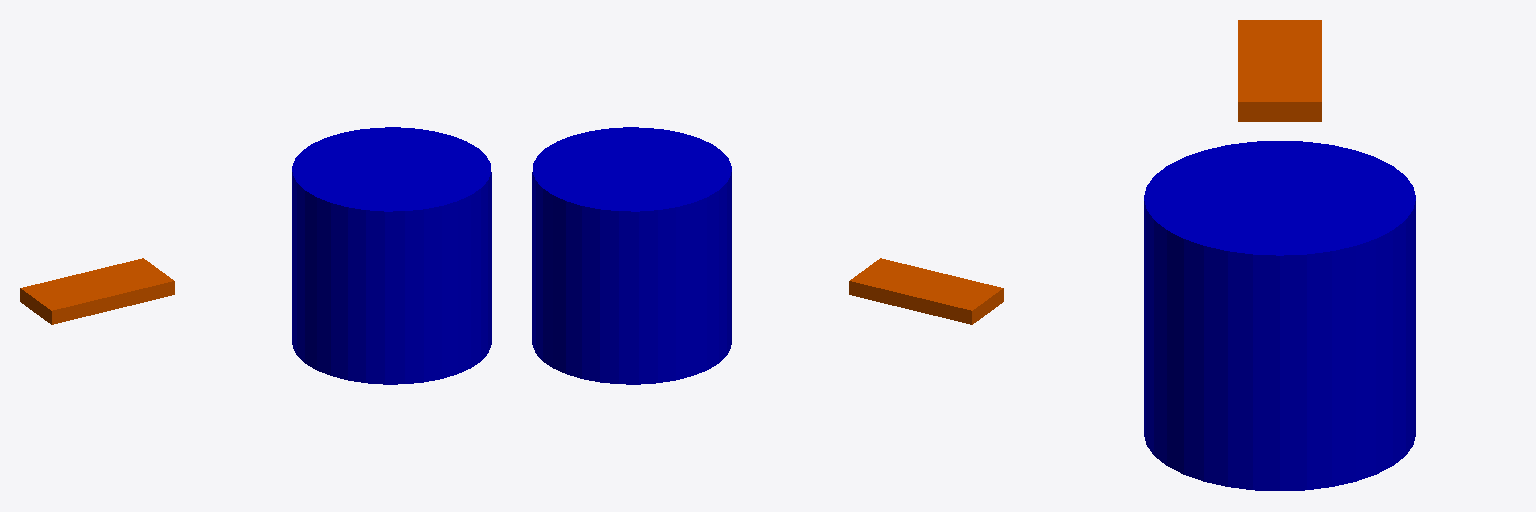
The robot description file, URDF, robot "mintaur":
<?xml version="1.0" ?>
<!-- =================================================================================== -->
<!-- |    This document was autogenerated by xacro from urdf/bvc.xacro                 | -->
<!-- |    EDITING THIS FILE BY HAND IS NOT RECOMMENDED                                 | -->
<!-- =================================================================================== -->
<robot name="mintaur" xmlns:xacro="http://www.ros.org/wiki/xacro">
  <material name="black">
    <color rgba="0.0 0.0 0.0 1.0"/>
  </material>
  <material name="blue">
    <color rgba="0.0 0.0 0.8 1.0"/>
  </material>
  <material name="green">
    <color rgba="0.0 0.8 0.0 1.0"/>
  </material>
  <material name="grey">
    <color rgba="0.2 0.2 0.2 1.0"/>
  </material>
  <material name="orange">
    <color rgba="1.0 0.423529411765 0.0392156862745 1.0"/>
  </material>
  <material name="brown">
    <color rgba="0.870588235294 0.811764705882 0.764705882353 1.0"/>
  </material>
  <material name="red">
    <color rgba="0.8 0.0 0.0 1.0"/>
  </material>
  <material name="white">
    <color rgba="1.0 1.0 1.0 1.0"/>
  </material>
  <material name="acrylic">
    <color rgba="1.0 1.0 1.0 0.4"/>
  </material>
  <!-- X axis direction is forward, Y axis direction is left -->
  <!-- <xacro:macro name="imu_geometry">
       <geometry>
            <box size = "${imuL} ${imuW} ${imuH} "/>
        </geometry>
	</xacro:macro> -->
  <gazebo>
    <plugin filename="libgazebo_ros_control.so" name="gazebo_ros_control">
      <robotNamespace>/</robotNamespace>
      <robotSimType>gazebo_ros_control/DefaultRobotHWSim</robotSimType>
      <legacyModeNS>true</legacyModeNS>
    </plugin>
  </gazebo>
  <link name="base_link">
    <visual>
      <geometry>
        <mesh filename="file:///[local-path]/mrob/src/avc_urdf/avc_urdf/meshes/chassis2.DAE" scale="0.001 0.001 0.001"/>
      </geometry>
      <origin rpy="1.57 0 0" xyz="-0.125 -0.07 -0.085"/>
    </visual>
    <collision>
      <geometry>
        <box size="0.51 0.2 0.15 "/>
      </geometry>
    </collision>
    <inertial>
      <mass value="10"/>
      <inertia ixx="1.0" ixy="0.0" ixz="0.0" iyy="1.0" iyz="0.0" izz="1.0"/>
    </inertial>
  </link>
  <gazebo reference="base_link">
    <material>Gazebo/Black</material>
  </gazebo>
  <link name="right_front_wheel">
    <visual>
      <geometry>
        <mesh filename="file:///[local-path]/mrob/src/avc_urdf/avc_urdf/meshes/wheels.DAE" scale="0.001 0.001 0.001"/>
      </geometry>
      <origin rpy="1.57 0 0" xyz="0 0.022 0"/>
      <material name="black"/>
    </visual>
    <collision>
      <geometry>
        <cylinder length="0.043" radius="0.05"/>
      </geometry>
      <origin rpy="1.57075 0 0" xyz="0 0 0"/>
    </collision>
    <inertial>
      <mass value="1"/>
      <inertia ixx="0.4" ixy="0.0" ixz="0.0" iyy="0.4" iyz="0.0" izz="0.4"/>
    </inertial>
  </link>
  <joint name="right_front_wheel_joint" type="continuous">
    <axis rpy="0 0 0" xyz="0 1 0"/>
    <parent link="base_link"/>
    <child link="right_front_wheel"/>
    <origin rpy="0 0 0" xyz="0.1535 -0.1215 -0.085"/>
  </joint>
  <gazebo reference="right_front_wheel">
    <mu1 value="200.0"/>
    <mu2 value="100.0"/>
    <kp value="10000000.0"/>
    <kd value="1.0"/>
    <material>Gazebo/Grey</material>
  </gazebo>
  <transmission name="right_front_wheel_trans">
    <type>transmission_interface/SimpleTransmission</type>
    <actuator name="right_front_wheel_motor">
      <mechanicalReduction>1</mechanicalReduction>
    </actuator>
    <joint name="right_front_wheel_joint">
      <hardwareInterface>hardware_interface/VelocityJointInterface</hardwareInterface>
    </joint>
  </transmission>
  <link name="left_front_wheel">
    <visual>
      <geometry>
        <mesh filename="file:///[local-path]/mrob/src/avc_urdf/avc_urdf/meshes/wheels.DAE" scale="0.001 0.001 0.001"/>
      </geometry>
      <origin rpy="1.57 0 3.14" xyz="0 -0.022 0"/>
      <material name="black"/>
    </visual>
    <collision>
      <geometry>
        <cylinder length="0.043" radius="0.05"/>
      </geometry>
      <origin rpy="1.57075 0 0" xyz="0 0 0"/>
    </collision>
    <inertial>
      <mass value="1"/>
      <inertia ixx="0.4" ixy="0.0" ixz="0.0" iyy="0.4" iyz="0.0" izz="0.4"/>
    </inertial>
  </link>
  <joint name="left_front_wheel_joint" type="continuous">
    <axis rpy="0 0 0" xyz="0 1 0"/>
    <parent link="base_link"/>
    <child link="left_front_wheel"/>
    <origin rpy="0 0 0" xyz="0.1535 0.1215 -0.085"/>
  </joint>
  <gazebo reference="left_front_wheel">
    <mu1 value="200.0"/>
    <mu2 value="100.0"/>
    <kp value="10000000.0"/>
    <kd value="1.0"/>
    <material>Gazebo/Grey</material>
  </gazebo>
  <transmission name="left_front_wheel_trans">
    <type>transmission_interface/SimpleTransmission</type>
    <actuator name="left_front_wheel_motor">
      <mechanicalReduction>1</mechanicalReduction>
    </actuator>
    <joint name="left_front_wheel_joint">
      <hardwareInterface>hardware_interface/VelocityJointInterface</hardwareInterface>
    </joint>
  </transmission>
  <link name="right_back_wheel">
    <visual>
      <geometry>
        <mesh filename="file:///[local-path]/mrob/src/avc_urdf/avc_urdf/meshes/wheels.DAE" scale="0.001 0.001 0.001"/>
      </geometry>
      <origin rpy="1.57 0 0" xyz="0 0.022 0"/>
      <material name="black"/>
    </visual>
    <collision>
      <geometry>
        <cylinder length="0.043" radius="0.05"/>
      </geometry>
      <origin rpy="1.57075 0 0" xyz="0 0 0"/>
    </collision>
    <inertial>
      <mass value="1"/>
      <inertia ixx="0.4" ixy="0.0" ixz="0.0" iyy="0.4" iyz="0.0" izz="0.4"/>
    </inertial>
  </link>
  <joint name="right_back_wheel_joint" type="continuous">
    <axis rpy="0 0 0" xyz="0 1 0"/>
    <parent link="base_link"/>
    <child link="right_back_wheel"/>
    <origin rpy="0 0 0" xyz="-0.1763 -0.1215 -0.085"/>
  </joint>
  <gazebo reference="right_back_wheel">
    <mu1 value="200.0"/>
    <mu2 value="100.0"/>
    <kp value="10000000.0"/>
    <kd value="1.0"/>
    <material>Gazebo/Grey</material>
  </gazebo>
  <transmission name="right_back_wheel_trans">
    <type>transmission_interface/SimpleTransmission</type>
    <actuator name="right_back_wheel_motor">
      <mechanicalReduction>1</mechanicalReduction>
    </actuator>
    <joint name="right_back_wheel_joint">
      <hardwareInterface>hardware_interface/VelocityJointInterface</hardwareInterface>
    </joint>
  </transmission>
  <link name="left_back_wheel">
    <visual>
      <geometry>
        <mesh filename="file:///[local-path]/mrob/src/avc_urdf/avc_urdf/meshes/wheels.DAE" scale="0.001 0.001 0.001"/>
      </geometry>
      <origin rpy="1.57 0 3.14" xyz="0 -0.022 0"/>
      <material name="black"/>
    </visual>
    <collision>
      <geometry>
        <cylinder length="0.043" radius="0.05"/>
      </geometry>
      <origin rpy="1.57075 0 0" xyz="0 0 0"/>
    </collision>
    <inertial>
      <mass value="1"/>
      <inertia ixx="0.4" ixy="0.0" ixz="0.0" iyy="0.4" iyz="0.0" izz="0.4"/>
    </inertial>
  </link>
  <joint name="left_back_wheel_joint" type="continuous">
    <axis rpy="0 0 0" xyz="0 1 0"/>
    <parent link="base_link"/>
    <child link="left_back_wheel"/>
    <origin rpy="0 0 0" xyz="-0.1763 0.1215 -0.085"/>
  </joint>
  <gazebo reference="left_back_wheel">
    <mu1 value="200.0"/>
    <mu2 value="100.0"/>
    <kp value="10000000.0"/>
    <kd value="1.0"/>
    <material>Gazebo/Grey</material>
  </gazebo>
  <transmission name="left_back_wheel_trans">
    <type>transmission_interface/SimpleTransmission</type>
    <actuator name="left_back_wheel_motor">
      <mechanicalReduction>1</mechanicalReduction>
    </actuator>
    <joint name="left_back_wheel_joint">
      <hardwareInterface>hardware_interface/VelocityJointInterface</hardwareInterface>
    </joint>
  </transmission>
  <link name="imu_link">
    <visual>
      <geometry>
        <box size="0.064 0.028 0.007 "/>
      </geometry>
    </visual>
    <collision>
      <geometry>
        <box size="0.064 0.028 0.007 "/>
      </geometry>
    </collision>
    <inertial>
      <mass value="0.1"/>
      <inertia ixx="0.4" ixy="0.4" ixz="0.4" iyy="0.4" iyz="0.4" izz="0.4"/>
    </inertial>
  </link>
  <joint name="imu_joint" type="fixed">
    <axis xyz="0 1 0"/>
    <parent link="base_link"/>
    <child link="imu_link"/>
    <origin xyz="-0.077 0.0 0.077"/>
  </joint>
  <gazebo reference="imu_link">
    <material>Gazebo/Red</material>
  </gazebo>
  <link name="lidar_link">
    <visual>
      <geometry>
        <cylinder length="0.086" radius="0.045"/>
      </geometry>
      <origin rpy="0 0 0" xyz="0 0 0"/>
      <material name="blue"/>
    </visual>
    <collision>
      <geometry>
        <cylinder length="0.086" radius="0.045"/>
      </geometry>
      <origin rpy="0 0 0" xyz="0 0 0"/>
    </collision>
    <inertial>
      <mass value="0.025"/>
      <inertia ixx="2.80645822107e-05" ixy="0.0" ixz="0.0" iyy="2.80645822107e-05" iyz="0.0" izz="2.53125e-05"/>
    </inertial>
  </link>
  <joint name="lidar_joints" type="fixed">
    <parent link="base_link"/>
    <child link="lidar_link"/>
    <origin xyz="0.076 0.0 0.059"/>
  </joint>
  <gazebo reference="lidar_link">
    <material>Gazebo/Blue</material>
  </gazebo>
</robot>

--- What the picture shows (computed from the rendered views, not written in the file) ---
3 views of the same robot in one strip: view 1: azimuth 30°, elevation 25°; view 2: azimuth 150°, elevation 25°; view 3: azimuth 270°, elevation 25° (orthographic).
Robot: mintaur — 7 links, 6 joints (4 continuous, 2 fixed); root link base_link; default pose: every joint at zero.
Links seen in each view (by area): view 1: lidar_link, imu_link; view 2: lidar_link, imu_link; view 3: lidar_link, imu_link.
Boxes of the visible links, box(x1,y1,x2,y2) form: lidar_link: box(292, 127, 491, 384); imu_link: box(20, 258, 174, 324); lidar_link: box(532, 127, 731, 384); imu_link: box(849, 258, 1003, 324); lidar_link: box(1144, 141, 1415, 490); imu_link: box(1238, 20, 1321, 121).
Size in the robot's own frame: 0.23 by 0.09 by 0.086 metres.
Geometry: only primitive shapes (box / cylinder / sphere) drawn; not drawn: 5 mesh visuals (reference in a form the renderer does not follow).